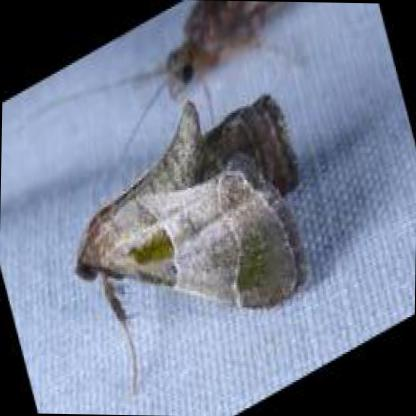Leaf Webber: (76, 95, 305, 387)
